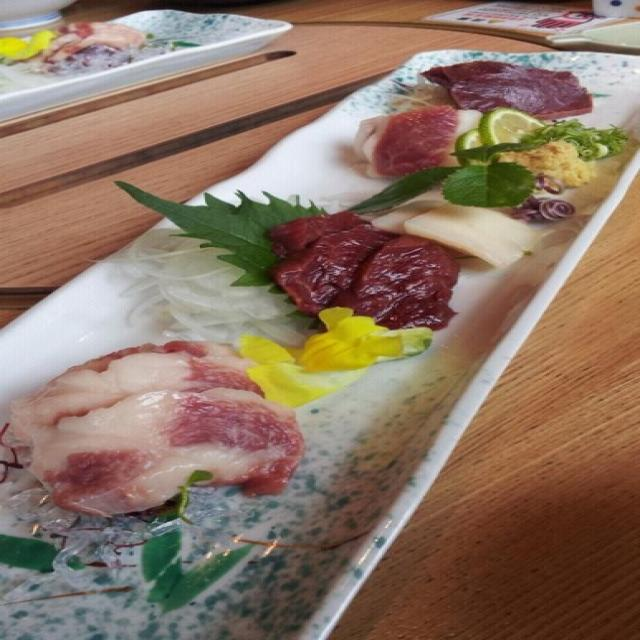刺身生食: (6, 10, 622, 613)
